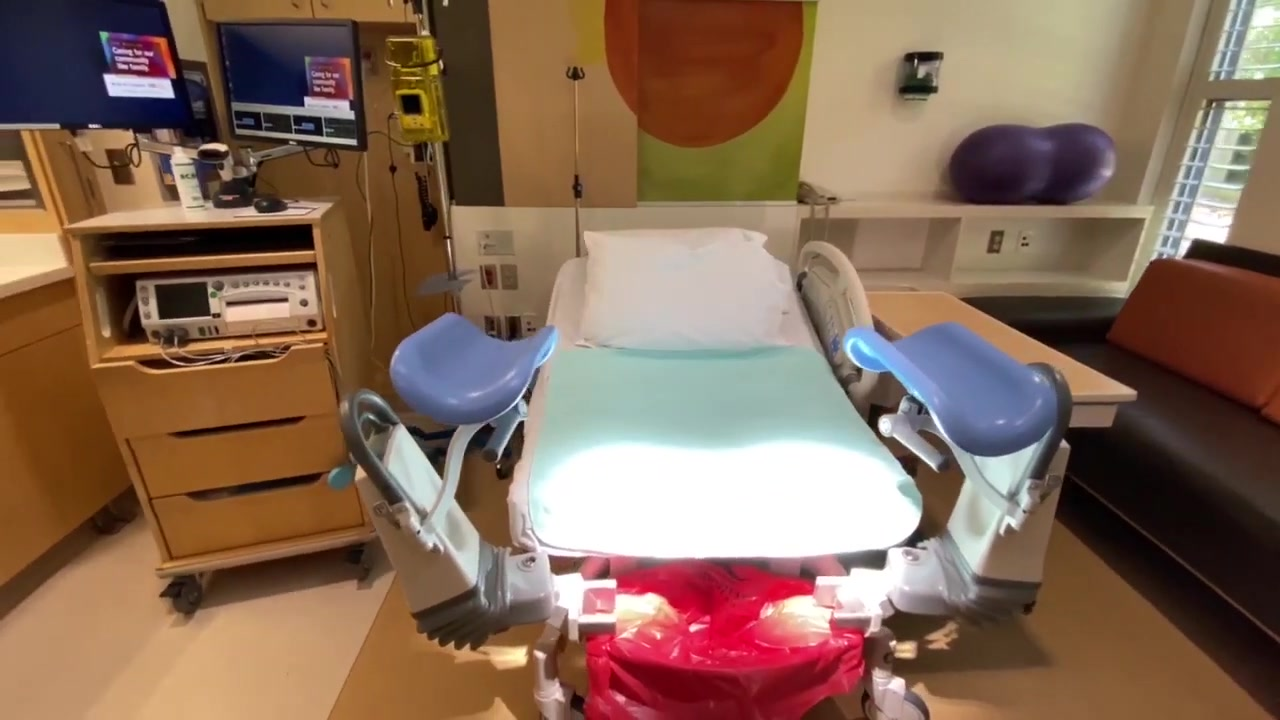bedrail: (795, 239, 878, 401)
computer: (1, 1, 196, 132), (213, 16, 369, 152)
drawer: (78, 202, 377, 592)
hospital_bed: (519, 222, 927, 715)
iv_pole: (389, 1, 474, 314), (564, 65, 588, 258)
mouse: (254, 198, 287, 214)
overbed_table: (865, 291, 1138, 427)
sofa: (1071, 239, 1280, 664)
telephone: (797, 176, 842, 209)
waste_bin: (572, 556, 860, 720)
